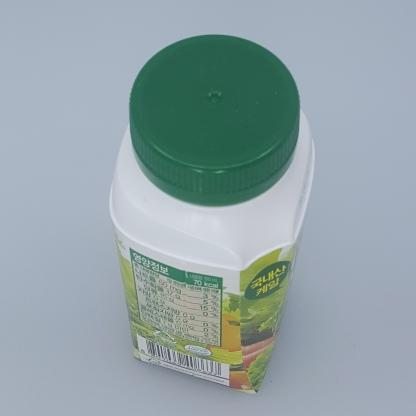---------190ML: (108, 35, 315, 395)
